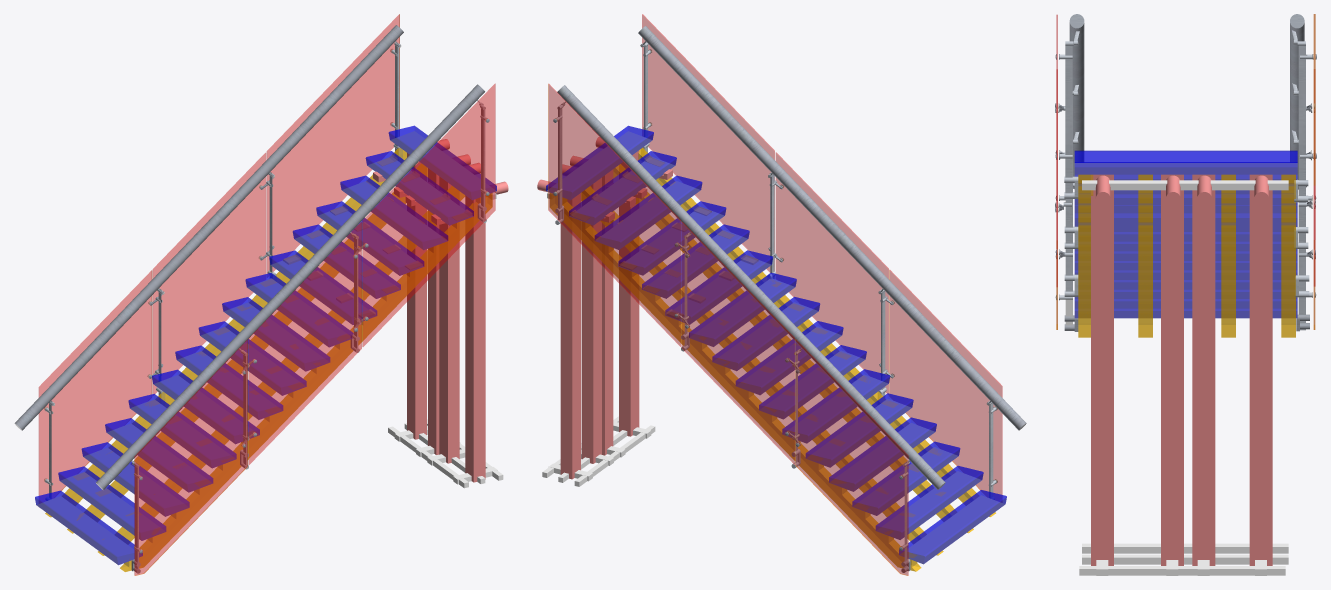
3 views of the same model, side by side, from view 1: azimuth 30°, elevation 25°; view 2: azimuth 150°, elevation 25°; view 3: azimuth 270°, elevation 25° (orthographic). The views are drawn at different scales.
Visible parts, largest first — view 1: Model, stringer_2_1, Handrail2, Handrail1, Support_post1, Support_post4, Support_post3, stringer_1_1, tread1, tread2, Support_post2, tread4 (+16 smaller); view 2: Model, stringer_1_1, Handrail1, Handrail2, Support_post3, Support_post2, Support_post1, stringer_2_1, tread1, tread2, Support_post4, tread16 (+16 smaller); view 3: Support_post2, Support_post3, Support_post4, Support_post1, Model, tread15, stringer_1_1, stringer1, stringer2, stringer_2_1, Handrail1, Bar1 (+19 smaller).
Boxes of the visible parts, x1,y1,x2,y2 form: Model: (39, 14, 495, 575); stringer_2_1: (120, 193, 492, 571); Handrail2: (14, 25, 403, 430); Handrail1: (96, 84, 484, 489); Support_post1: (431, 181, 508, 484); Support_post4: (405, 163, 480, 465); Support_post3: (373, 139, 449, 441); stringer_1_1: (45, 148, 406, 517); tread1: (35, 490, 142, 565); tread2: (58, 466, 166, 540); Support_post2: (394, 154, 470, 456); tread4: (105, 418, 212, 492); Model: (548, 14, 1002, 575); stringer_1_1: (549, 193, 921, 571); Handrail1: (638, 26, 1026, 430); Handrail2: (557, 85, 945, 489); Support_post3: (537, 179, 614, 481); Support_post2: (562, 164, 635, 465); Support_post1: (595, 137, 672, 438); stringer_2_1: (638, 147, 995, 516); tread1: (899, 490, 1006, 564); tread2: (876, 465, 983, 539); Support_post4: (570, 155, 647, 457); tread16: (594, 175, 702, 249); Support_post2: (1192, 174, 1215, 575); Support_post3: (1249, 174, 1272, 575); Support_post4: (1161, 174, 1183, 575); Support_post1: (1091, 174, 1113, 575); Model: (1056, 14, 1315, 331); tread15: (1074, 150, 1297, 174); stringer_1_1: (1281, 174, 1295, 337); stringer1: (1221, 174, 1235, 337); stringer2: (1138, 174, 1152, 337); stringer_2_1: (1078, 174, 1093, 337); Handrail1: (1069, 14, 1084, 188); Bar1: (1082, 180, 1288, 190).
Bounding box in the file's own units: 178 × 165 × 71.07.
Materials: 10 (2 with a texture image).
